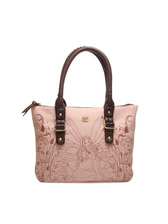bag: (21, 46, 139, 186)
